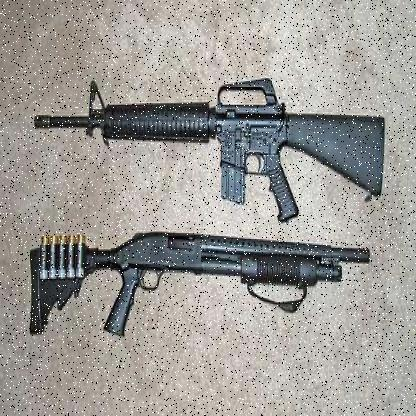rifle: (42, 202, 375, 382), (38, 65, 397, 229)
